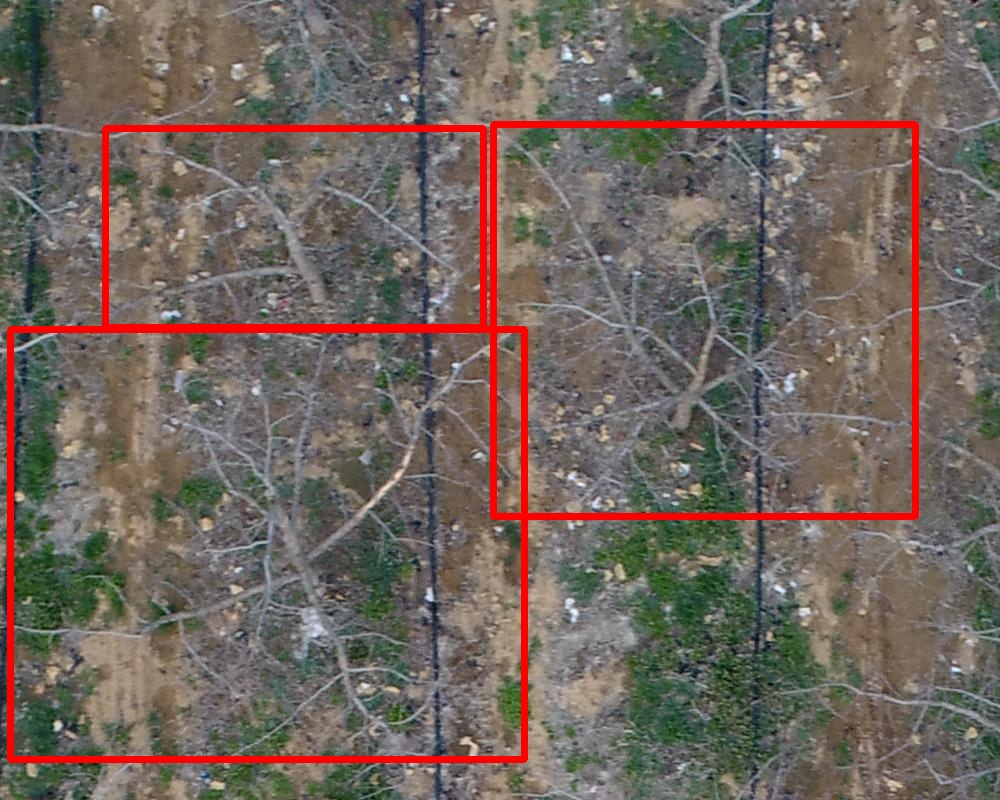apple: (10, 329, 524, 759), (493, 124, 915, 516), (105, 128, 483, 327)
